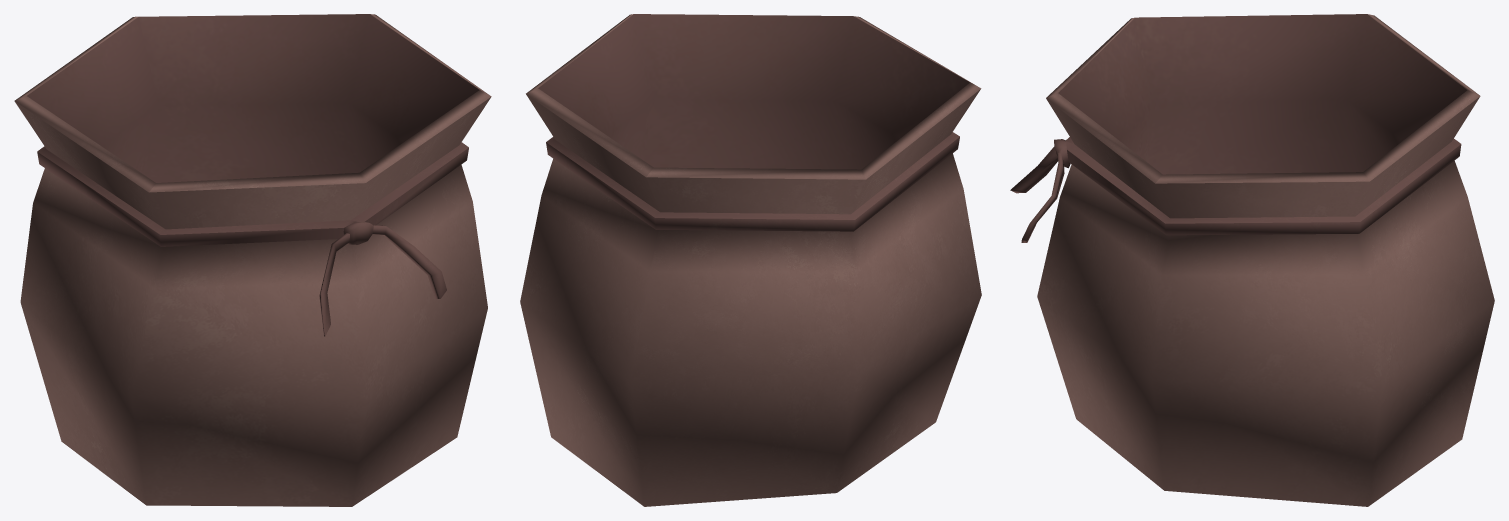
Rendered from CoinDust x1.fbx.
3 renders of one model, left to right at view 1: azimuth 30°, elevation 25°; view 2: azimuth 150°, elevation 25°; view 3: azimuth 270°, elevation 25°, orthographic. The views are drawn at different scales.
Visible parts, largest first — view 1: Coin Dust x1; view 2: Coin Dust x1; view 3: Coin Dust x1.
Boxes of the visible parts, x1=… form: Coin Dust x1: x1=14, y1=14, x2=491, y2=506; Coin Dust x1: x1=520, y1=14, x2=981, y2=506; Coin Dust x1: x1=1010, y1=14, x2=1494, y2=506.
Size of the model in its own units: 157 by 153 by 190.
